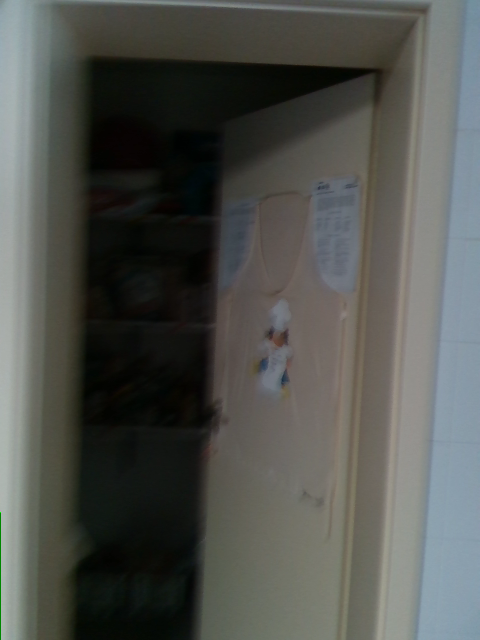semi: (0, 2, 465, 639)
